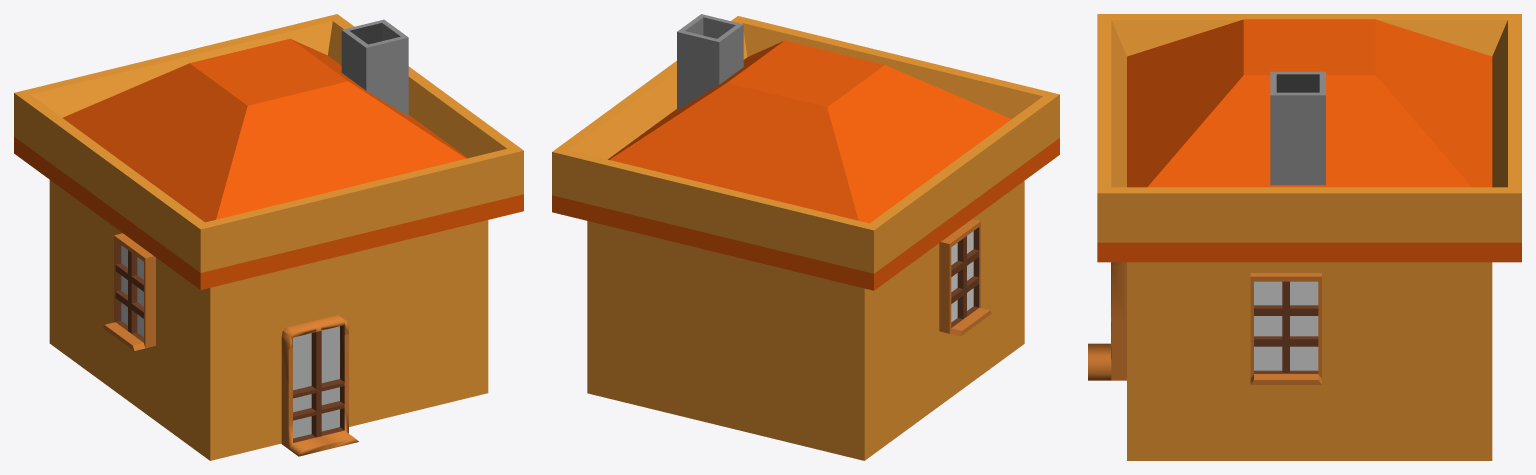
The model's file is MONO_kucuk_ev.fbx.
3 renders of one model, left to right at view 1: azimuth 30°, elevation 25°; view 2: azimuth 150°, elevation 25°; view 3: azimuth 270°, elevation 25°, orthographic. The views are drawn at different scales.
Visible parts, largest first — view 1: Cube, Cube.016, Cube.022, Cube.023; view 2: Cube, Cube.022, Cube.023; view 3: Cube, Cube.019, Cube.022, Cube.016.
Part boxes in pixels (<box>): Cube: <box>14,14,523,460</box>; Cube.016: <box>281,315,358,456</box>; Cube.022: <box>341,19,408,116</box>; Cube.023: <box>103,233,155,350</box>; Cube: <box>552,16,1059,460</box>; Cube.022: <box>677,14,743,110</box>; Cube.023: <box>939,219,991,336</box>; Cube: <box>1097,14,1521,460</box>; Cube.019: <box>1250,273,1321,384</box>; Cube.022: <box>1270,71,1325,185</box>; Cube.016: <box>1088,262,1126,380</box>.
Bounding box in the file's own units: 36.61 × 33.99 × 37.41.
